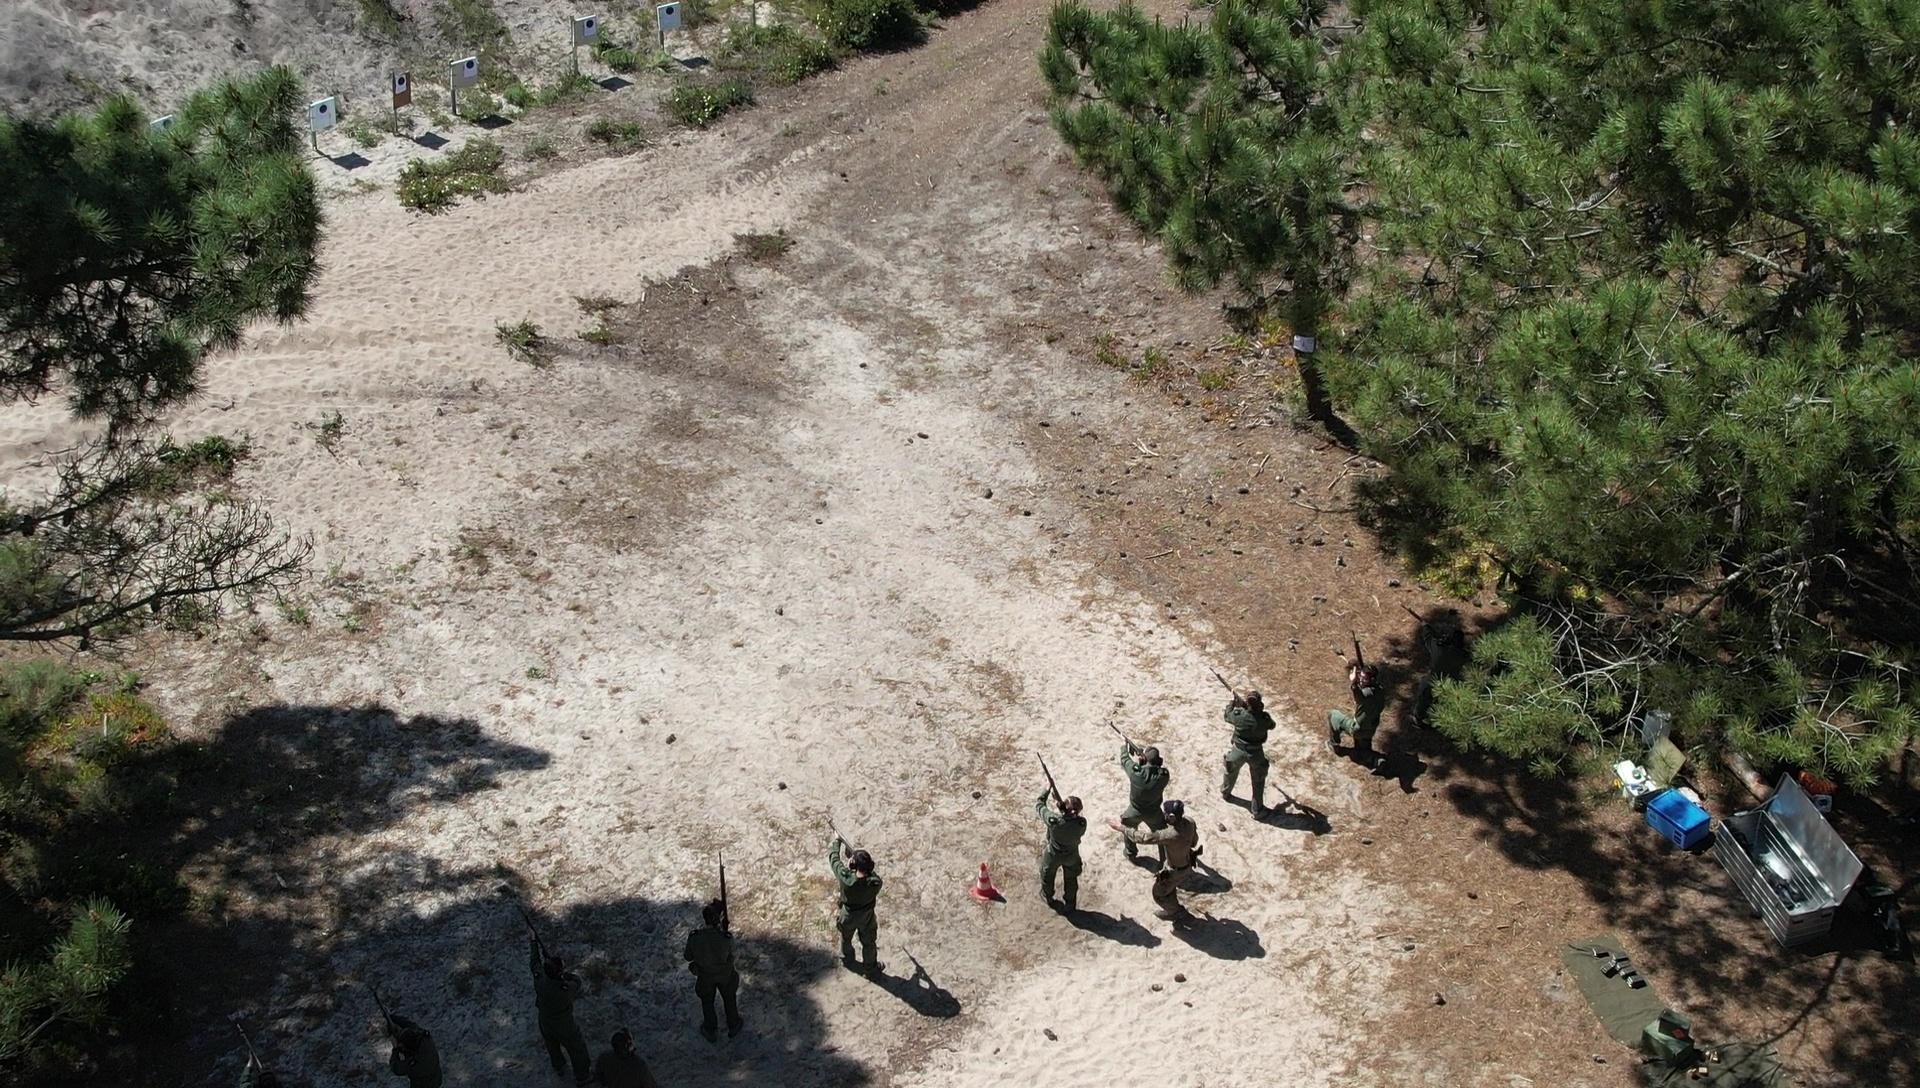Soldier: (498, 911, 589, 1088), (1021, 745, 1098, 918), (686, 851, 754, 1041), (812, 808, 886, 971), (1124, 797, 1212, 930), (1329, 629, 1396, 785), (357, 996, 456, 1088), (1211, 674, 1266, 827), (1110, 712, 1175, 823)
